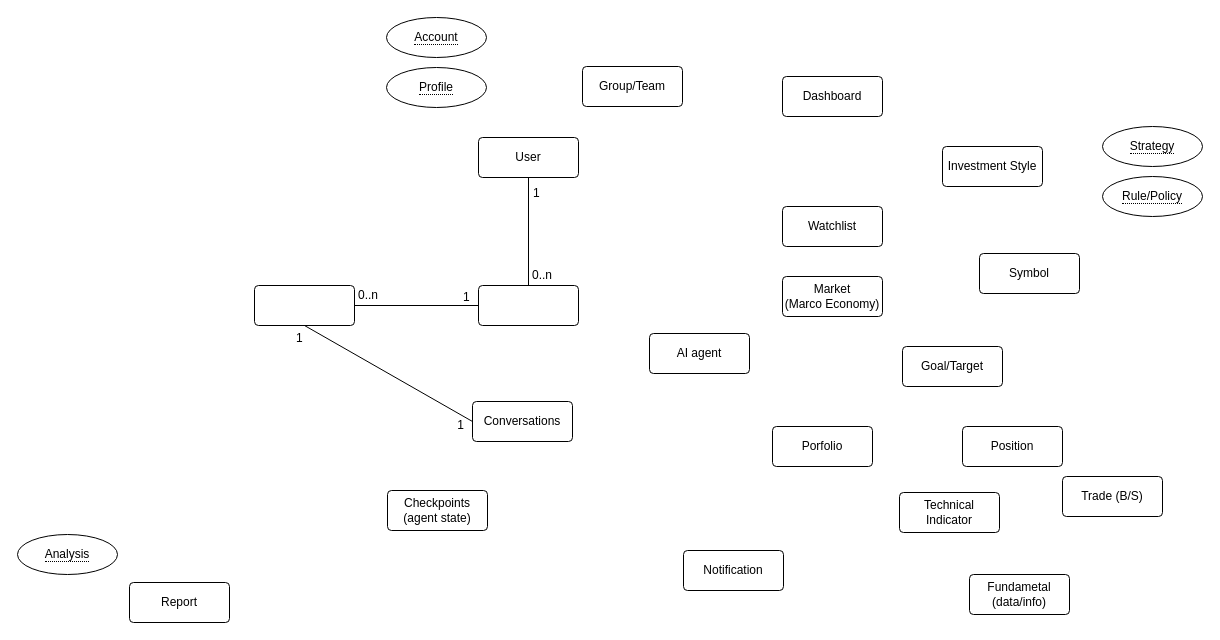
Some shapes in this 1220 by 640 pixel diagram are drawn without their labels. Each missing label, with the centre of its shape:
Sessions (agent thread): pixel 304 305
Workspaces: pixel 528 305
